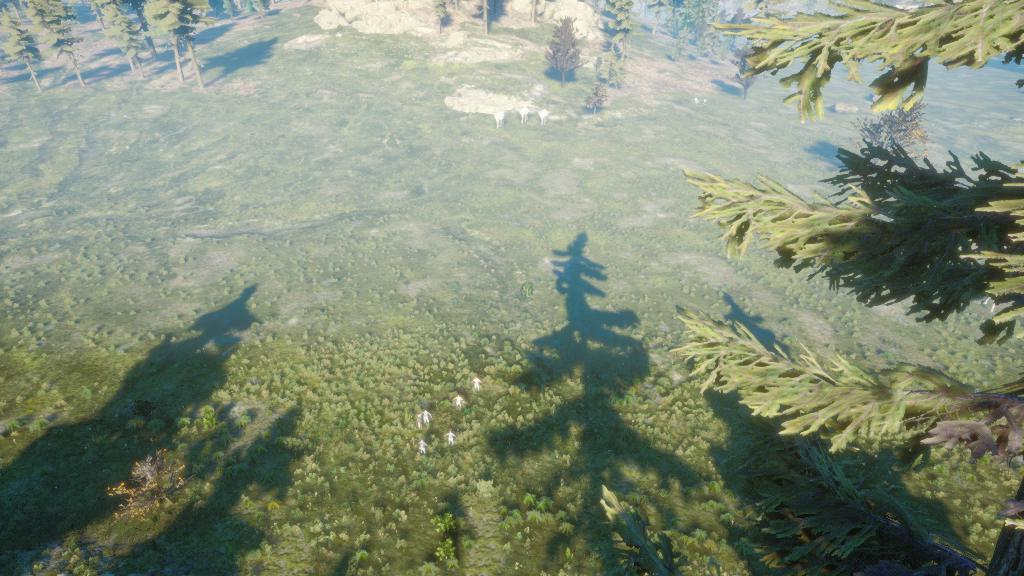elephant: (492, 110, 509, 133), (516, 106, 532, 126), (537, 108, 550, 128)
human: (414, 437, 432, 460), (443, 429, 459, 450), (450, 393, 466, 412), (421, 407, 435, 428), (470, 375, 484, 395), (414, 412, 424, 431)
